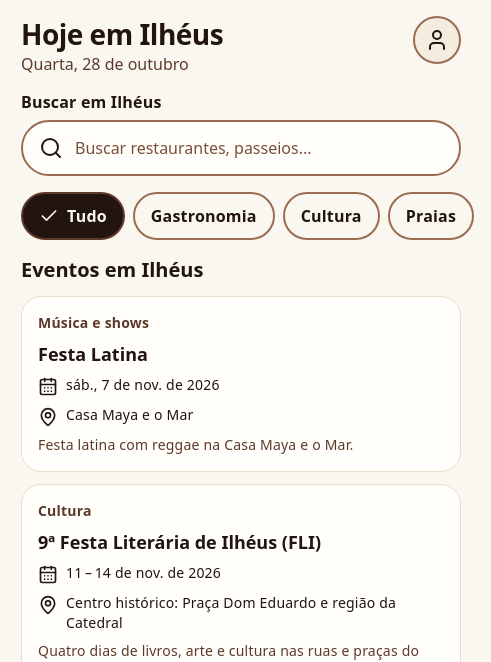
HomeScreen › hides the circuit card while filtering
Click the button "Cultura": (331, 216) left=283, top=192, right=380, bottom=240
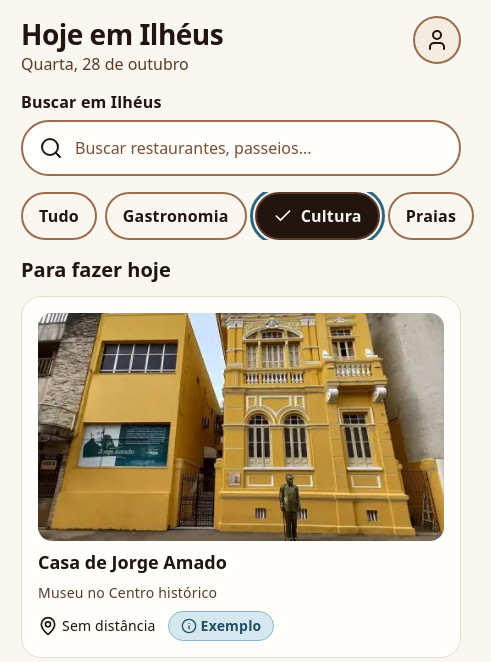
Expected: the link "Circuito Cultural do Centro" is not shown
Click the button "Tudo": (59, 216) left=21, top=192, right=97, bottom=240
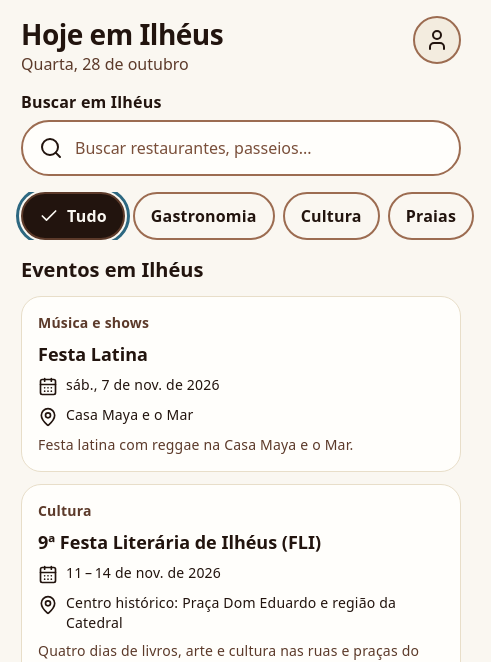
In the search field labelled "Buscar em Ilhéus": (259, 148) left=75, top=136, right=443, bottom=160, type "jorge"
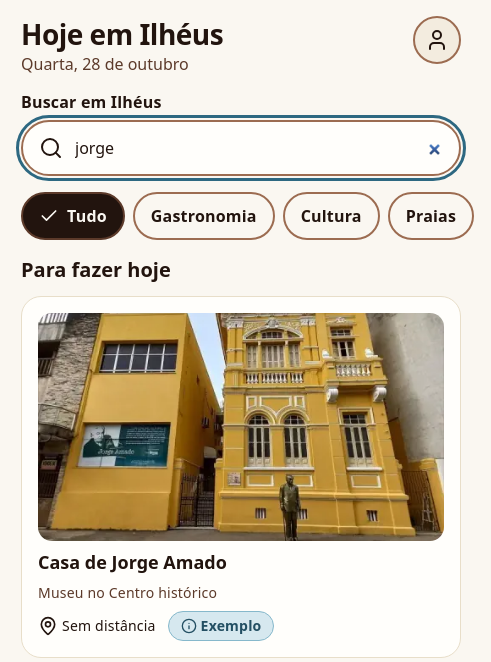
Expected: the link "Circuito Cultural do Centro" is not shown
Clear the search field labelled "Buscar em Ilhéus": (259, 148) left=75, top=136, right=443, bottom=160
(page scrolled)
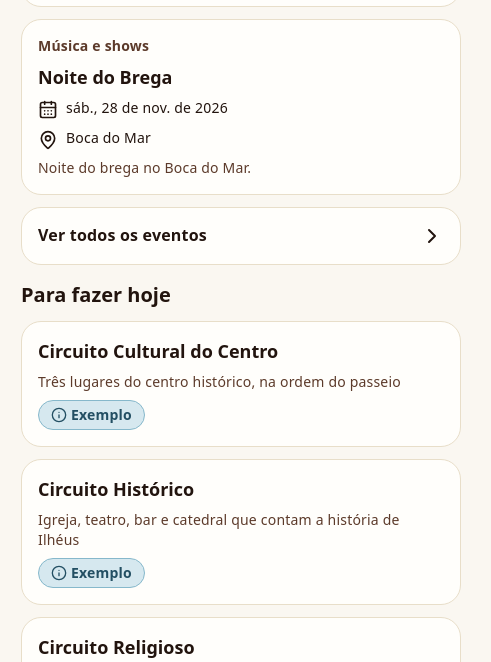
Expected: the link "Circuito Cultural do Centro" is shown, left=21, top=321, right=461, bottom=447
